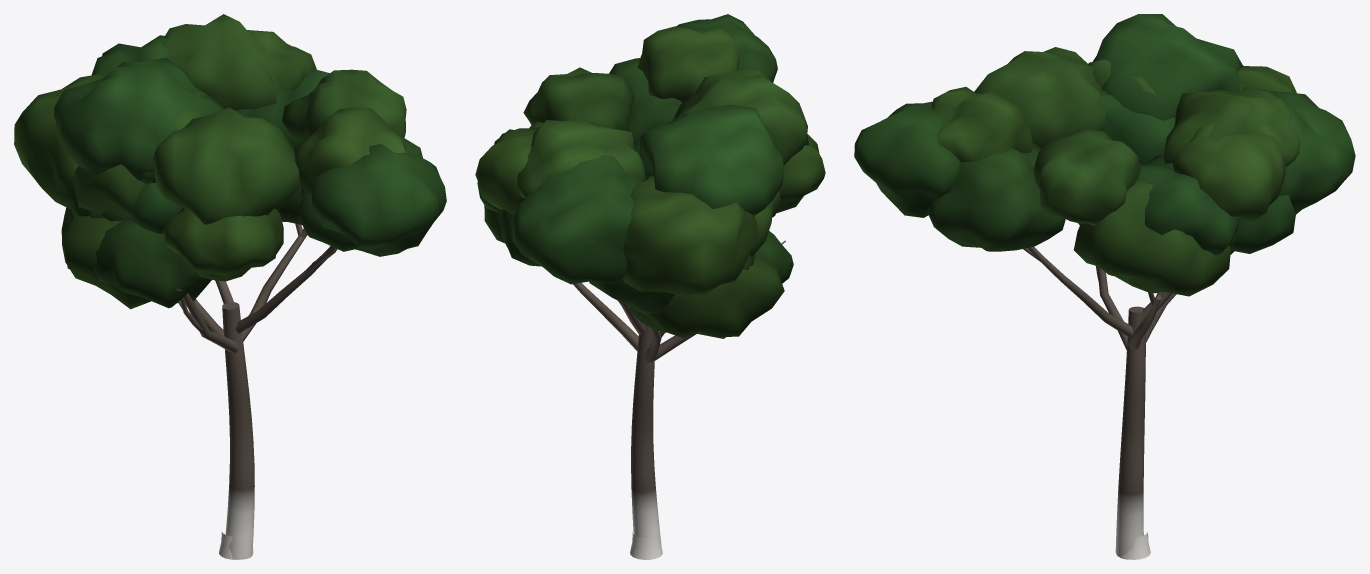
Rendered from sau.glb.
The picture shows the model from 3 angles, left to right: view 1: azimuth 30°, elevation 25°; view 2: azimuth 150°, elevation 25°; view 3: azimuth 270°, elevation 25°; orthographic projection. The views are drawn at different scales.
Parts seen in each view (by area): view 1: sau; view 2: sau; view 3: sau.
Part boxes in pixels (box(x1,y1,x2,y2)): sau: box(14, 14, 446, 559); sau: box(475, 14, 825, 559); sau: box(854, 14, 1355, 559).
Size of the model in its own units: 7.36 by 11.25 by 10.54.
